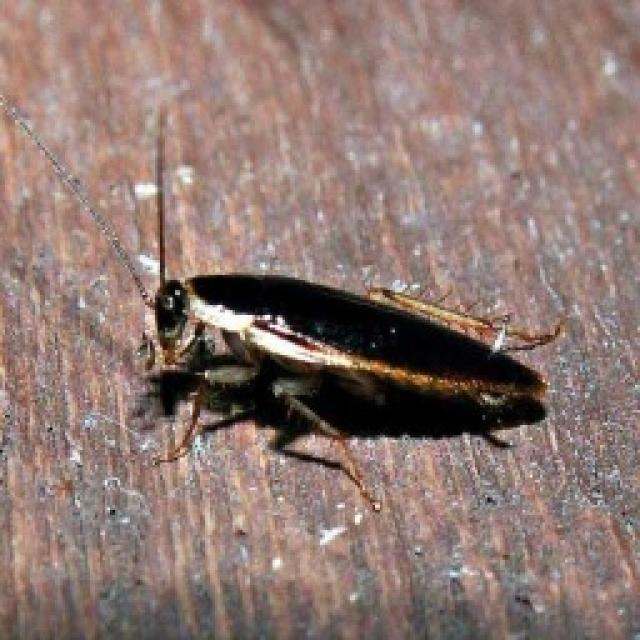cockroach: (137, 232, 568, 517)
